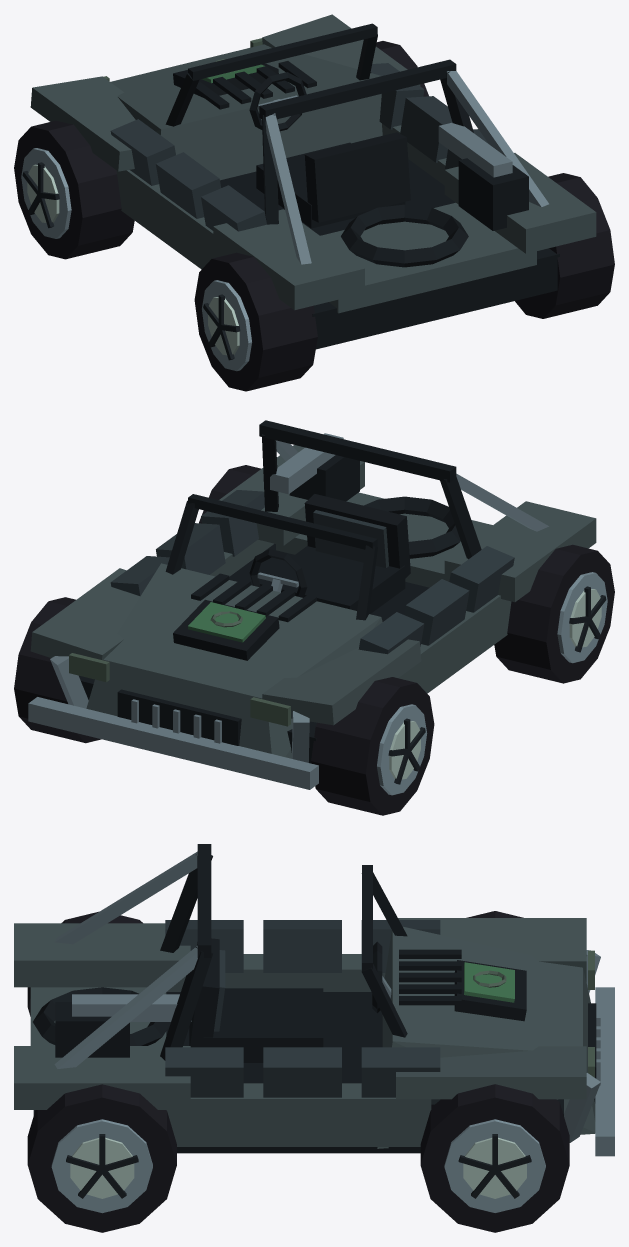
The model's file is kart.glb.
3 renders of one model, top to bottom at view 1: azimuth 30°, elevation 25°; view 2: azimuth 150°, elevation 25°; view 3: azimuth 270°, elevation 25°, orthographic. The views are drawn at different scales.
Parts seen in each view (by area): view 1: identity-warthog-warthog-sloped-armored-bonnet, identity-warthog-warthog-open-cage-and-cargo-bed, wheel-rear-left, wheel-front-left, identity-warthog-motif-armor, identity-warthog-driver-cockpit, wheel-rear-right, identity-warthog-motif-scanner, wheel-front-right; view 2: identity-warthog-warthog-sloped-armored-bonnet, identity-warthog-warthog-open-cage-and-cargo-bed, wheel-front-left, identity-warthog-motif-armor, wheel-rear-left, identity-warthog-driver-cockpit, identity-warthog-motif-scanner, wheel-front-right, wheel-rear-right; view 3: identity-warthog-warthog-sloped-armored-bonnet, identity-warthog-warthog-open-cage-and-cargo-bed, wheel-front-right, wheel-rear-right, identity-warthog-motif-armor, identity-warthog-driver-cockpit, identity-warthog-motif-scanner.
Part boxes in pixels (x1,y1,x2,y2): identity-warthog-warthog-sloped-armored-bonnet: [30, 14, 596, 349]; identity-warthog-warthog-open-cage-and-cargo-bed: [165, 23, 548, 313]; wheel-rear-left: [194, 252, 317, 391]; wheel-front-left: [14, 120, 134, 259]; identity-warthog-motif-armor: [110, 63, 488, 231]; identity-warthog-driver-cockpit: [249, 72, 410, 228]; wheel-rear-right: [515, 173, 614, 318]; identity-warthog-motif-scanner: [173, 59, 278, 97]; wheel-front-right: [376, 41, 428, 96]; identity-warthog-warthog-sloped-armored-bonnet: [28, 445, 596, 789]; identity-warthog-warthog-open-cage-and-cargo-bed: [165, 420, 548, 620]; wheel-front-left: [311, 677, 434, 815]; identity-warthog-motif-armor: [110, 490, 514, 654]; wheel-rear-left: [494, 544, 614, 683]; identity-warthog-driver-cockpit: [249, 494, 410, 613]; identity-warthog-motif-scanner: [173, 599, 279, 660]; wheel-front-right: [14, 597, 101, 743]; wheel-rear-right: [199, 465, 261, 523]; identity-warthog-warthog-sloped-armored-bonnet: [14, 918, 614, 1156]; identity-warthog-warthog-open-cage-and-cargo-bed: [30, 844, 407, 1068]; wheel-front-right: [420, 1084, 569, 1232]; wheel-rear-right: [27, 1084, 176, 1232]; identity-warthog-motif-armor: [165, 920, 440, 1104]; identity-warthog-driver-cockpit: [189, 938, 391, 1062]; identity-warthog-motif-scanner: [454, 960, 526, 1021].
Size of the model in its own units: 2.37 by 1.37 by 3.06.
